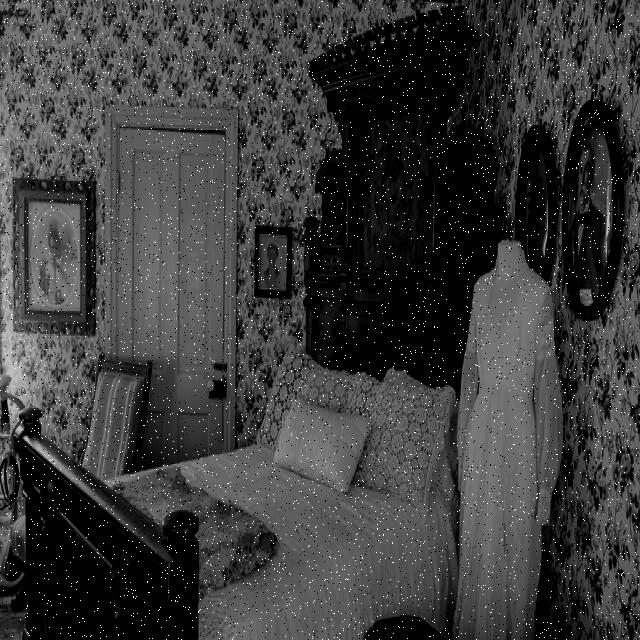bed: (73, 341, 462, 640)
